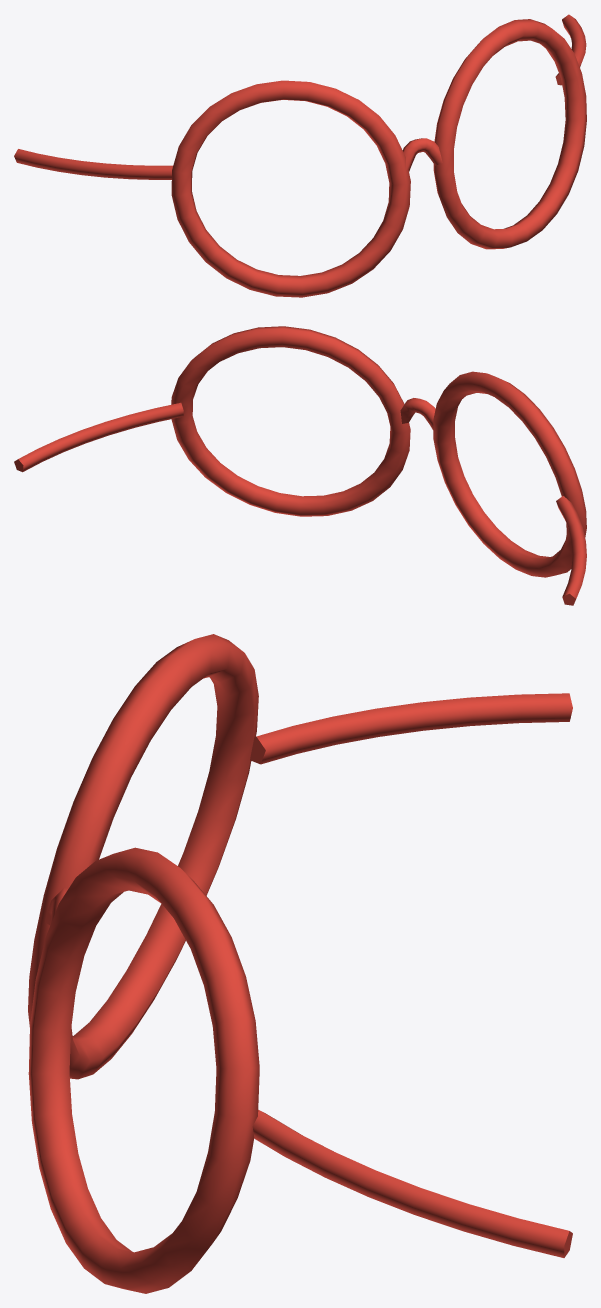
Rendered from face_round_glasses.glb.
3 views of the same model, one above another, from view 1: azimuth 30°, elevation 25°; view 2: azimuth 150°, elevation 25°; view 3: azimuth 270°, elevation 25° (orthographic). The views are drawn at different scales.
Visible parts, largest first — view 1: Frame; view 2: Frame; view 3: Frame.
Part boxes in pixels (x1,y1,x2,y2): Frame: (14, 14, 586, 297); Frame: (14, 326, 586, 605); Frame: (28, 634, 572, 1293).
Bounding box in the file's own units: 0.7759 × 0.2676 × 0.326.
